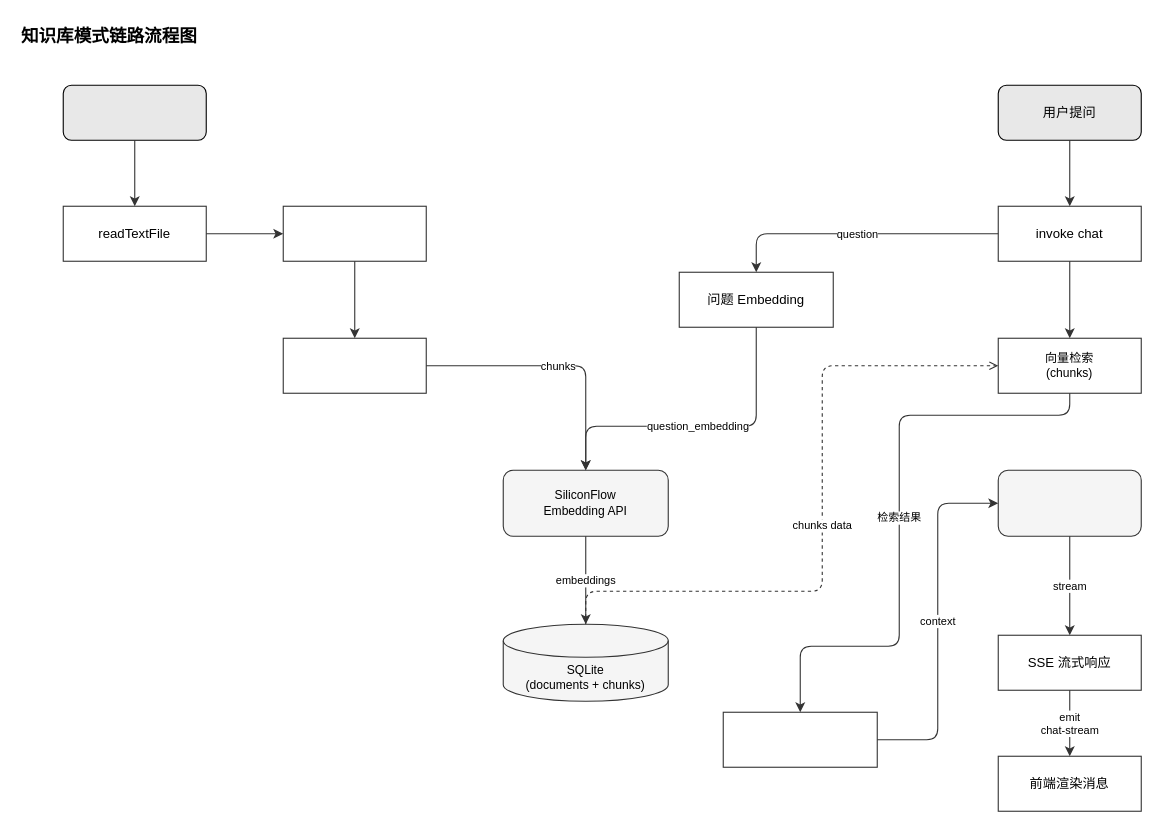
The diagram is 1161 pixels wide and 831 high, and some of its shapes have lost their labels. Here are the shapes that lost their labels. From the top down, the box of each, then its label:
(62, 84, 206, 140): 用户上传 .md
(282, 205, 426, 261): invoke add_document
(282, 337, 426, 393): split_content (400, 50)
(997, 469, 1141, 536): SiliconFlow Chat API
(722, 711, 877, 767): Top5 + 构造 Prompt
